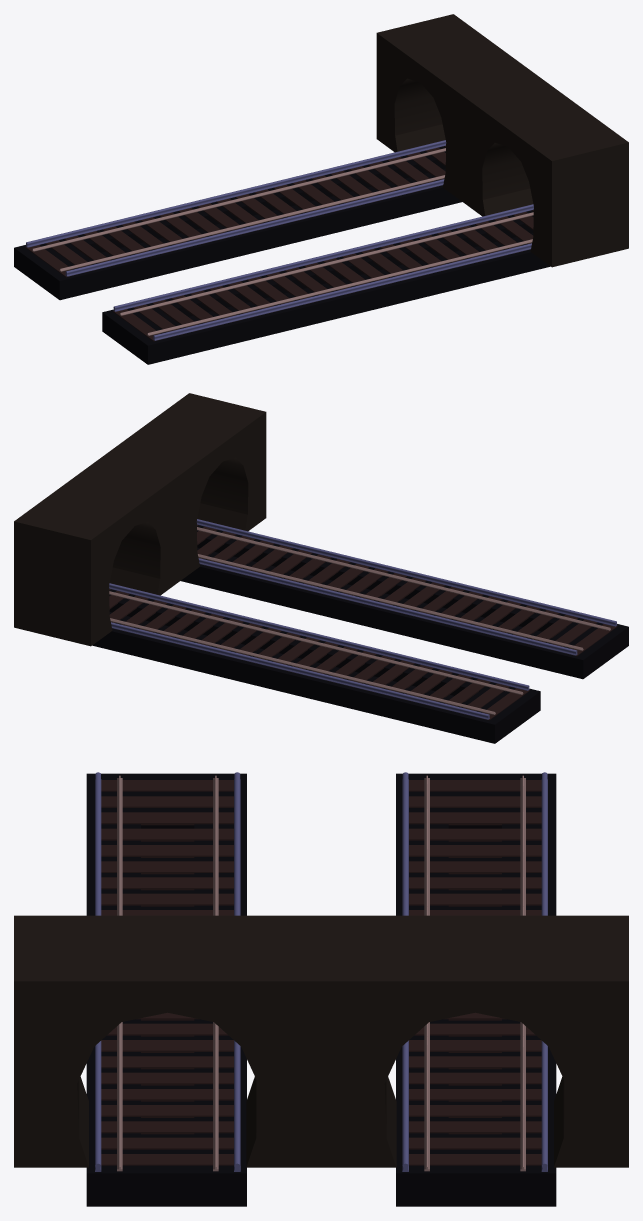
Rendered from Station_Tube.fbx.
3 views of the same model, one above another, from view 1: azimuth 30°, elevation 25°; view 2: azimuth 150°, elevation 25°; view 3: azimuth 270°, elevation 25° (orthographic). The views are drawn at different scales.
Parts seen in each view (by area): view 1: Box001, Box013, Box014, Loft003, Loft002; view 2: Box001, Box013, Box014, Loft003, Loft002; view 3: Box001, Box014, Box013, Loft003, Loft002.
Boxes of the visible parts, x1,y1,x2,y2 form: Box001: [376, 14, 628, 267]; Box013: [14, 146, 550, 364]; Box014: [25, 145, 533, 341]; Loft003: [25, 140, 533, 340]; Loft002: [32, 148, 533, 335]; Box001: [14, 393, 266, 646]; Box013: [92, 525, 628, 743]; Box014: [109, 524, 617, 720]; Loft003: [109, 519, 617, 719]; Loft002: [109, 527, 610, 714]; Box001: [14, 915, 628, 1167]; Box014: [101, 780, 541, 1165]; Box013: [86, 773, 556, 1206]; Loft003: [95, 772, 547, 1171]; Loft002: [117, 775, 525, 1171].
Size of the model in its own units: 510 by 131 by 332.
